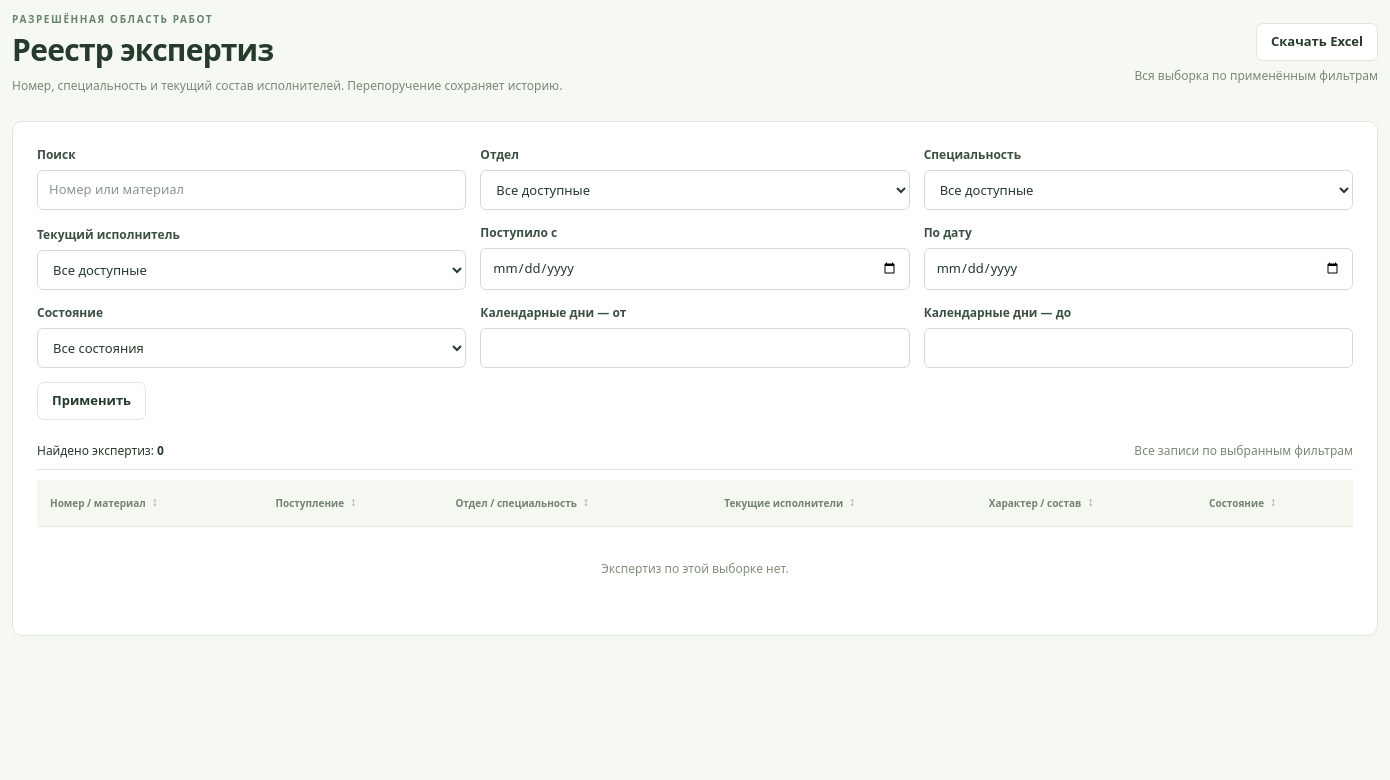
Scenario: expertise registry › shows a denied export without starting a browser download
The width and height of the screenshot is (1390, 780).
Click the button "Скачать Excel": (1317, 42) x1=1256 y1=22 x2=1378 y2=60
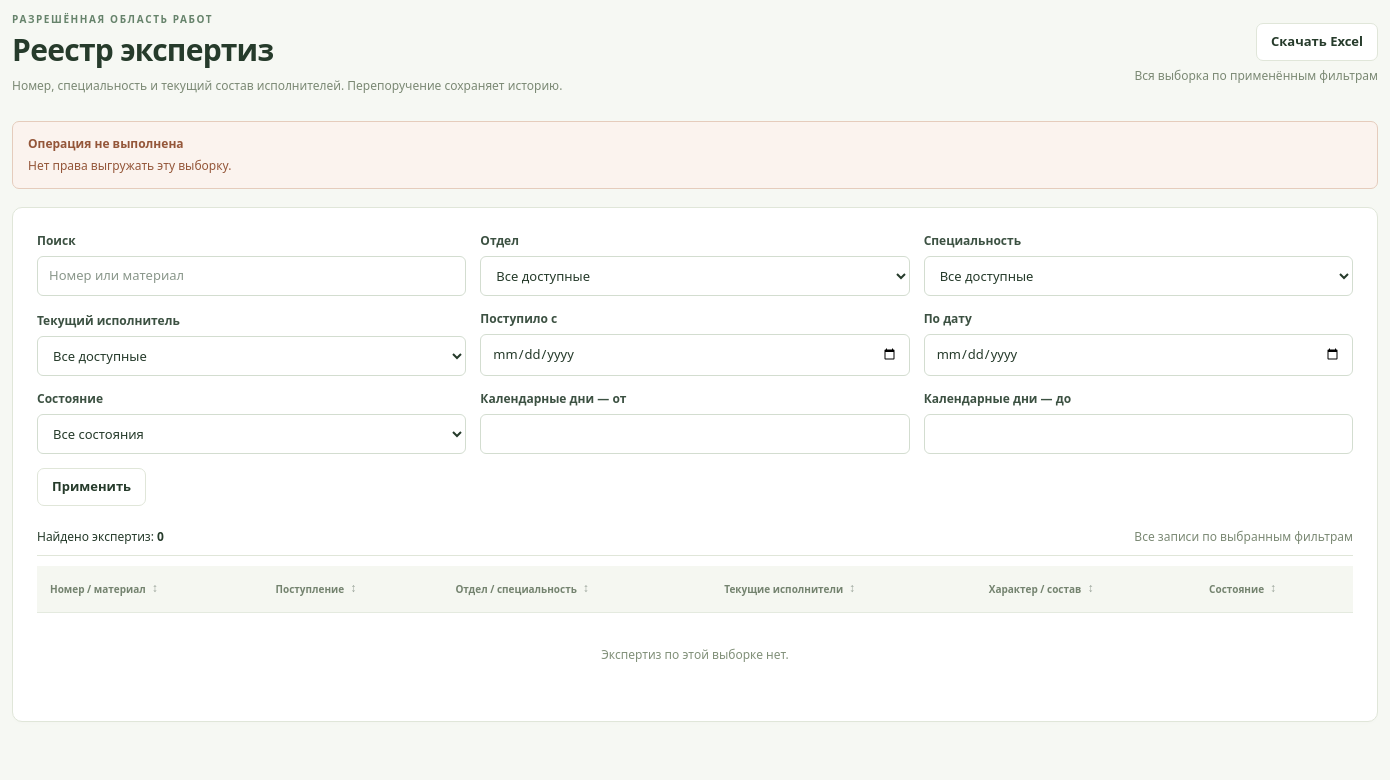
Expected: the message "Операция не выполнена Нет права выгружать эту выборку." is shown, x1=12 y1=121 x2=1378 y2=189
